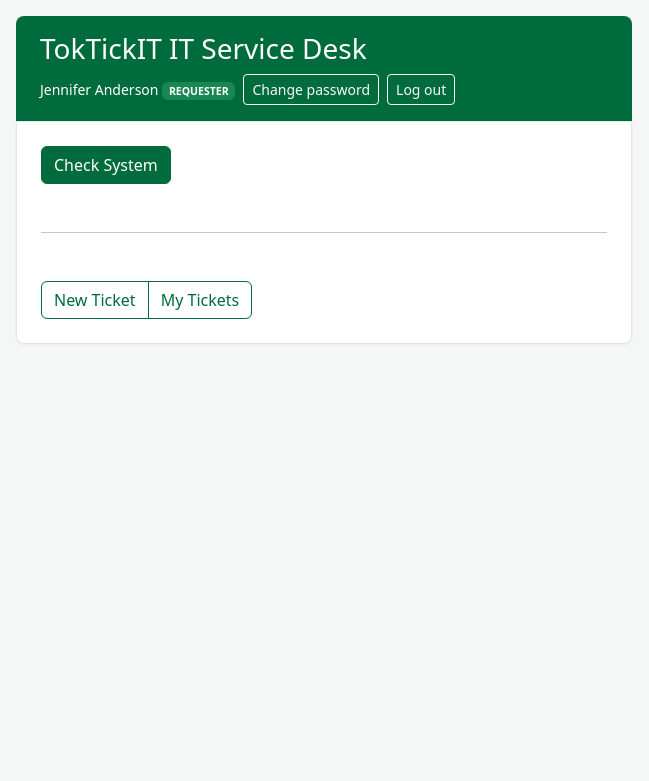
Test: TicketDetail › does not fetch a ticket's detail until its row is clicked
This screenshot has width=649, height=781.
Click the button "My Tickets". click: (200, 300)
box: [148, 281, 252, 319]
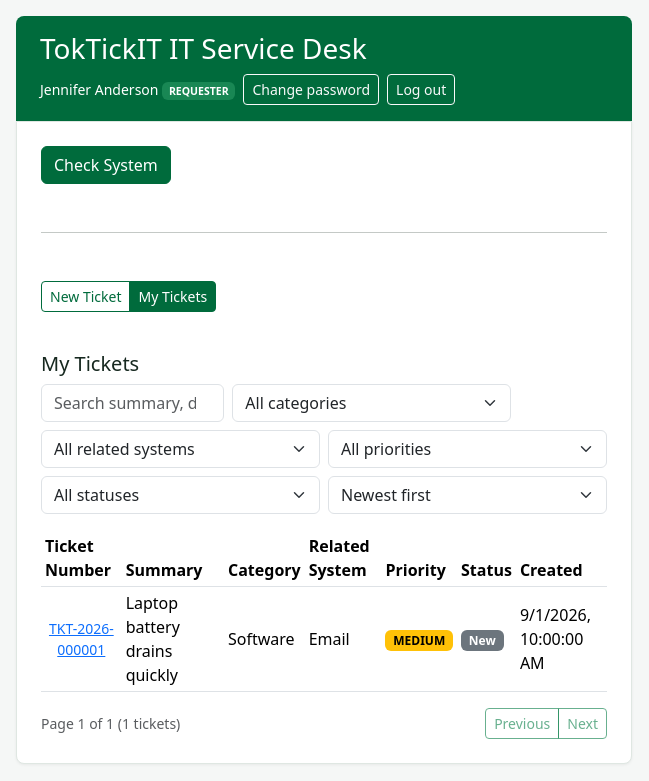
Expected: the heading "My Tickets" is shown, [41, 350, 139, 377]
